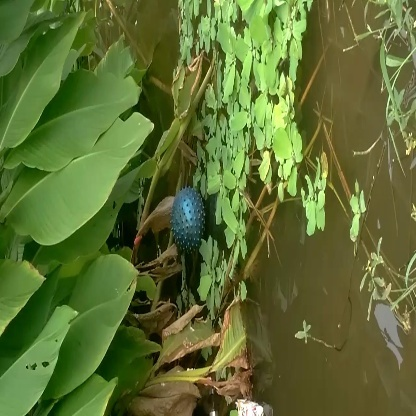ball: (161, 176, 208, 254)
